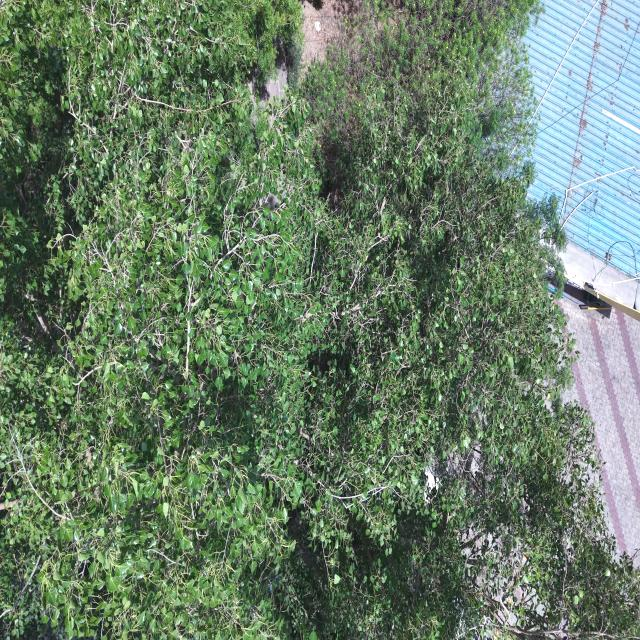ROOFTOP_BUILDING: (524, 0, 639, 316)
VEGETATION_TREE: (0, 0, 639, 639)
